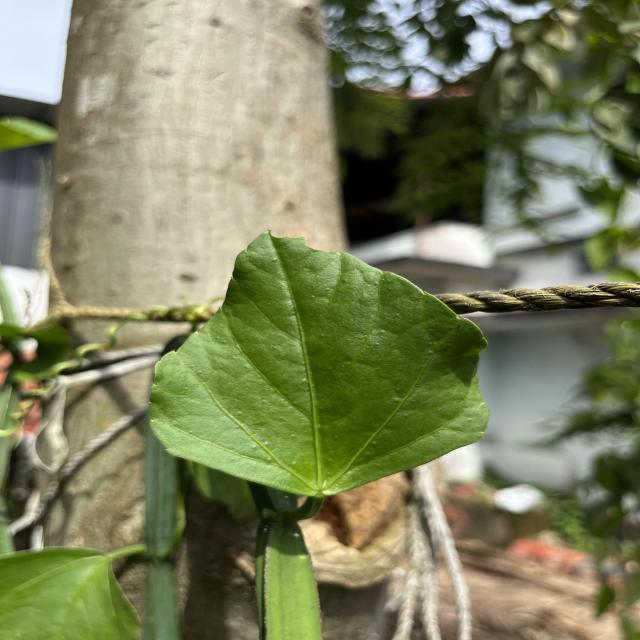Cissus quadrangularis: (144, 227, 494, 500)
